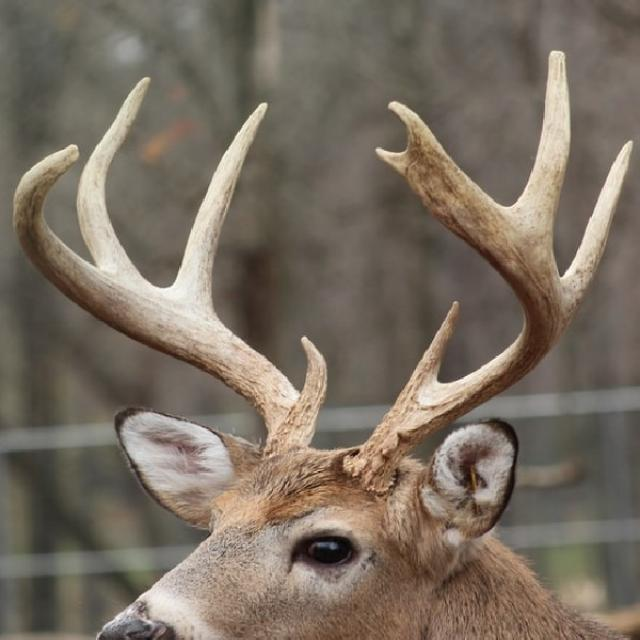E1: (374, 146, 411, 180)
L-F: (344, 100, 563, 493)
L-G1: (398, 300, 460, 397)
L-G2: (562, 139, 634, 328)
L-G3: (511, 50, 571, 256)
R-F: (11, 142, 314, 452)
R-G1: (299, 335, 328, 421)
R-G2: (171, 102, 268, 309)
R-G3: (77, 76, 151, 279)
